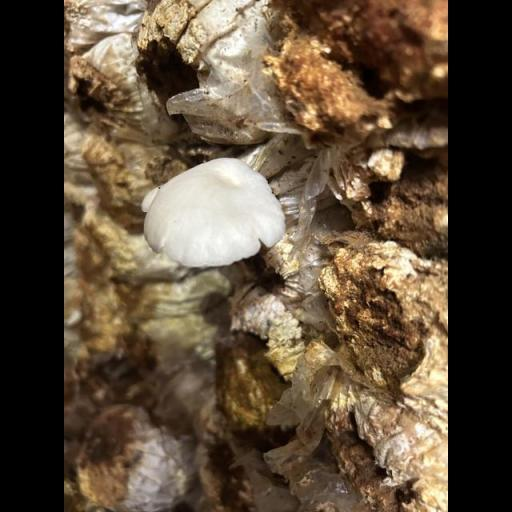White Oyster Mushroom: (138, 143, 295, 277)
